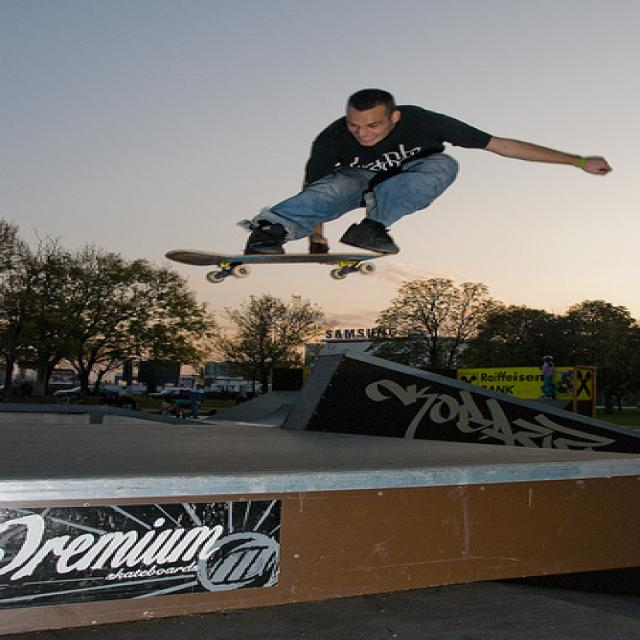Vehicle: (53, 385, 118, 402), (145, 388, 189, 398)
